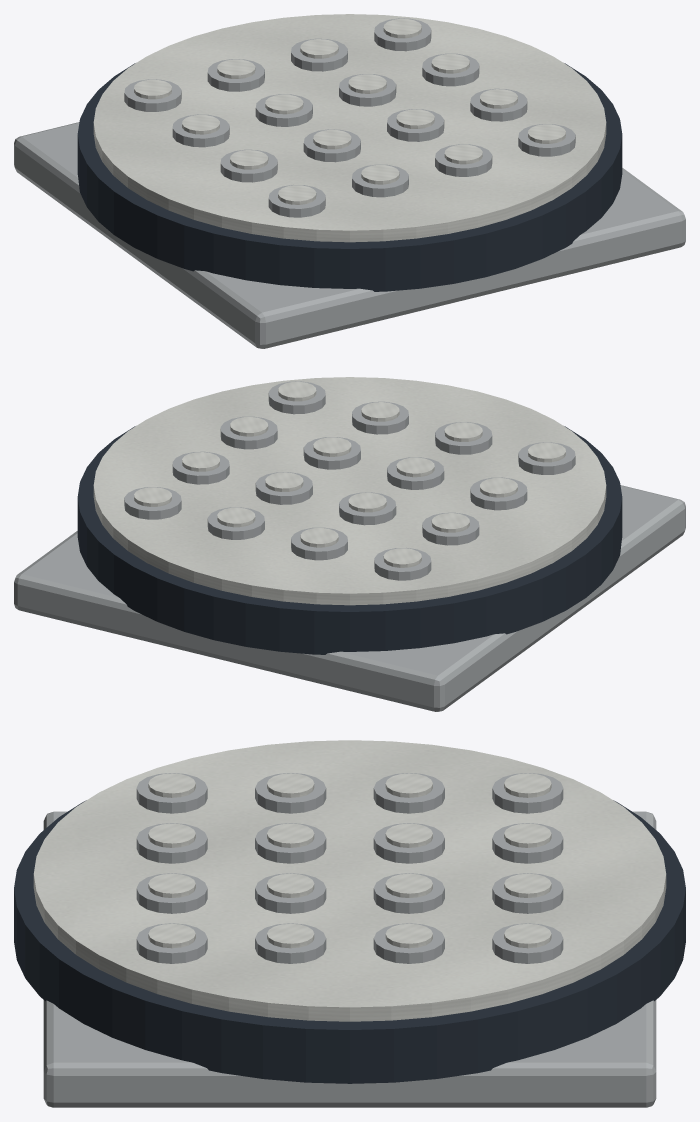
Rendered from satellite_navigation_array.glb.
The picture shows the model from 3 angles, top to bottom: view 1: azimuth 30°, elevation 25°; view 2: azimuth 150°, elevation 25°; view 3: azimuth 270°, elevation 25°; orthographic projection. The views are drawn at different scales.
Parts seen in each view (by area): view 1: Antenna_Face, Antenna_Backplane, Array_Mount, Radiating_Element.013, Radiating_Element.014, Radiating_Element.001, Radiating_Element.005, Radiating_Element.008, Radiating_Element.002, Radiating_Element.006, Radiating_Element.007, Radiating_Element.009 (+23 smaller); view 2: Antenna_Face, Antenna_Backplane, Array_Mount, Radiating_Element.014, Radiating_Element.013, Radiating_Element.002, Radiating_Element.006, Radiating_Element.011, Radiating_Element.001, Radiating_Element.004, Radiating_Element.005, Radiating_Element.009 (+23 smaller); view 3: Antenna_Face, Antenna_Backplane, Array_Mount, Radiating_Element.008, Radiating_Element.011, Radiating_Element.001, Radiating_Element.002, Radiating_Element.004, Radiating_Element.005, Radiating_Element.006, Radiating_Element.007, Radiating_Element (+23 smaller).
Boxes of the visible parts, left/top/right/bottom form: Antenna_Face: left=93, top=14, right=606, bottom=242; Antenna_Backplane: left=77, top=63, right=622, bottom=291; Array_Mount: left=14, top=122, right=685, bottom=348; Radiating_Element.013: left=470, top=88, right=527, bottom=121; Radiating_Element.014: left=422, top=53, right=479, bottom=86; Radiating_Element.001: left=220, top=149, right=277, bottom=182; Radiating_Element.005: left=303, top=129, right=360, bottom=162; Radiating_Element.008: left=435, top=144, right=492, bottom=176; Radiating_Element.002: left=172, top=114, right=229, bottom=147; Radiating_Element.006: left=255, top=94, right=312, bottom=126; Radiating_Element.007: left=207, top=59, right=264, bottom=91; Radiating_Element.009: left=387, top=109, right=444, bottom=141; Antenna_Face: left=93, top=377, right=606, bottom=605; Antenna_Backplane: left=77, top=426, right=622, bottom=654; Array_Mount: left=14, top=485, right=685, bottom=711; Radiating_Element.014: left=172, top=451, right=229, bottom=484; Radiating_Element.013: left=220, top=416, right=277, bottom=449; Radiating_Element.002: left=422, top=512, right=479, bottom=545; Radiating_Element.006: left=339, top=492, right=396, bottom=525; Radiating_Element.011: left=207, top=507, right=264, bottom=539; Radiating_Element.001: left=470, top=477, right=527, bottom=510; Radiating_Element.004: left=435, top=422, right=492, bottom=454; Radiating_Element.005: left=387, top=457, right=444, bottom=489; Radiating_Element.009: left=303, top=437, right=360, bottom=469; Antenna_Face: left=33, top=740, right=666, bottom=1021; Antenna_Backplane: left=14, top=800, right=685, bottom=1083; Array_Mount: left=43, top=811, right=656, bottom=1107; Radiating_Element.008: left=136, top=873, right=207, bottom=913; Radiating_Element.011: left=492, top=873, right=563, bottom=913; Radiating_Element.001: left=255, top=773, right=326, bottom=813; Radiating_Element.002: left=373, top=773, right=444, bottom=813; Radiating_Element.004: left=136, top=823, right=207, bottom=863; Radiating_Element.005: left=255, top=823, right=326, bottom=863; Radiating_Element.006: left=373, top=823, right=444, bottom=863; Radiating_Element.007: left=492, top=823, right=563, bottom=863; Radiating_Element: left=136, top=773, right=207, bottom=813.
Bounding box in the file's own units: 0.68 × 0.138 × 0.68.
Materials: 3 (1 with a texture image).
